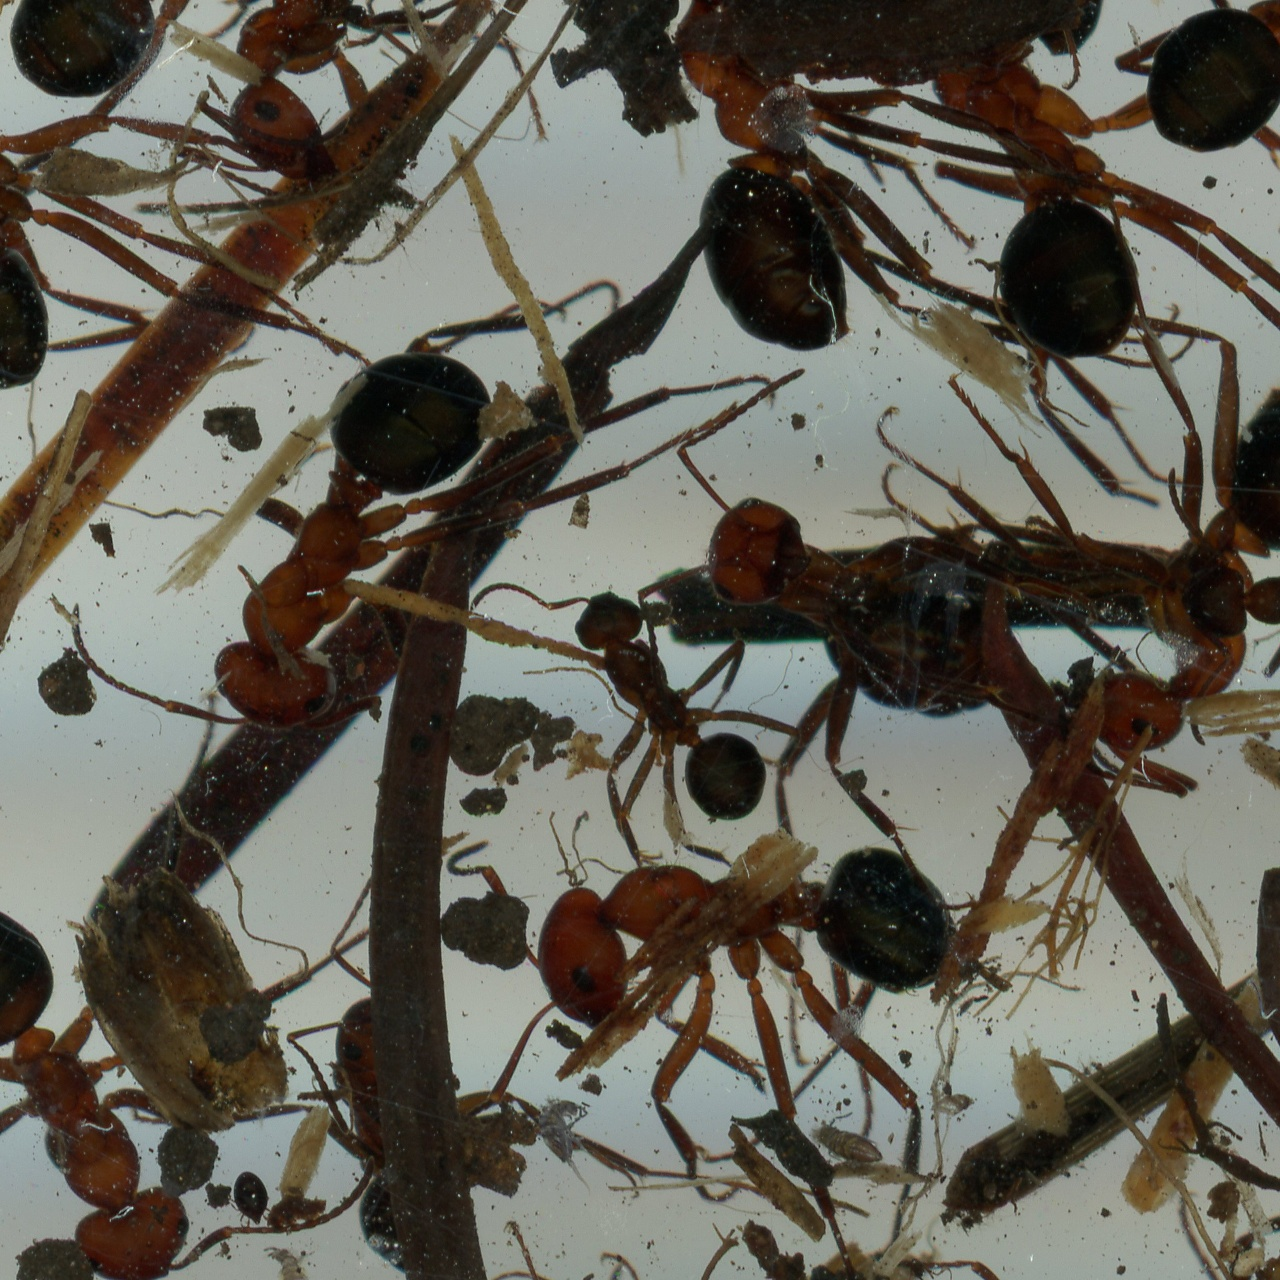arthropod: (544, 266, 1115, 859), (144, 226, 706, 770), (463, 820, 981, 1226), (844, 0, 1212, 476), (0, 792, 353, 1280), (1021, 290, 1280, 836), (211, 941, 576, 1280), (469, 551, 831, 845), (594, 0, 863, 351), (0, 0, 428, 196), (0, 0, 144, 395), (900, 1138, 1280, 1280), (150, 0, 369, 183), (1117, 0, 1280, 195), (1165, 490, 1280, 735), (844, 0, 1144, 52), (532, 1093, 596, 1201), (812, 1105, 893, 1177), (225, 1169, 277, 1236), (260, 1244, 324, 1280)
